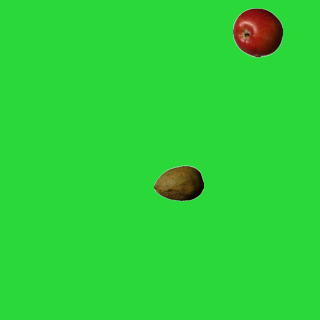Apple Braeburn: (232, 7, 282, 57)
Papaya: (153, 158, 203, 208)
